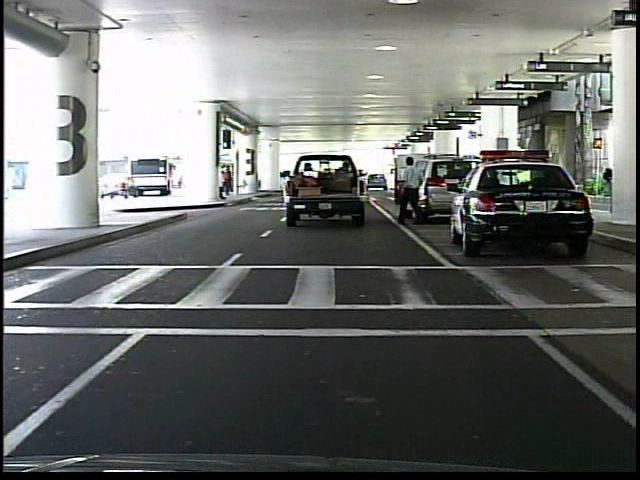person: (392, 154, 430, 229), (223, 160, 237, 200)
